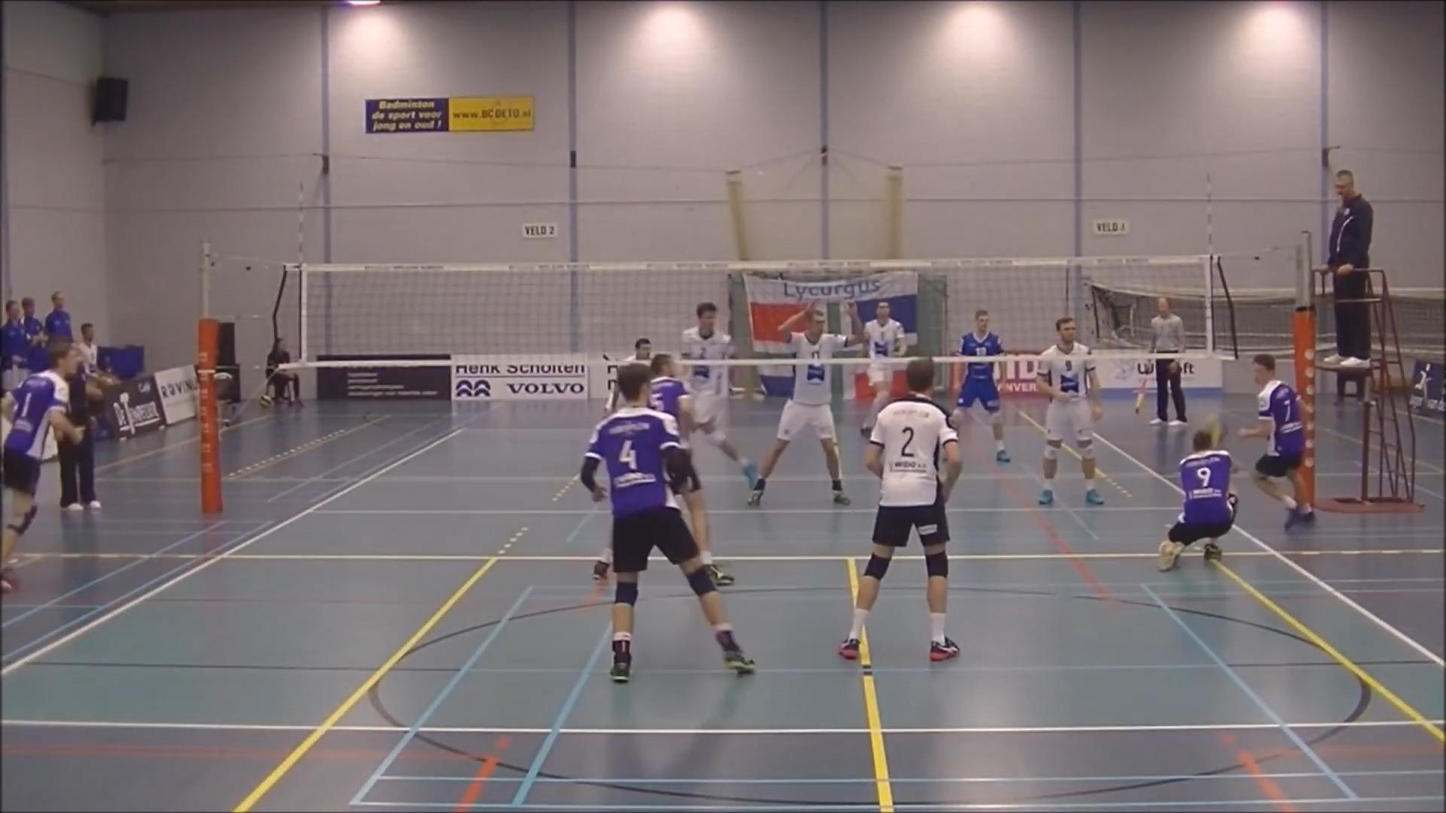ricezione: (1147, 424, 1244, 578)
